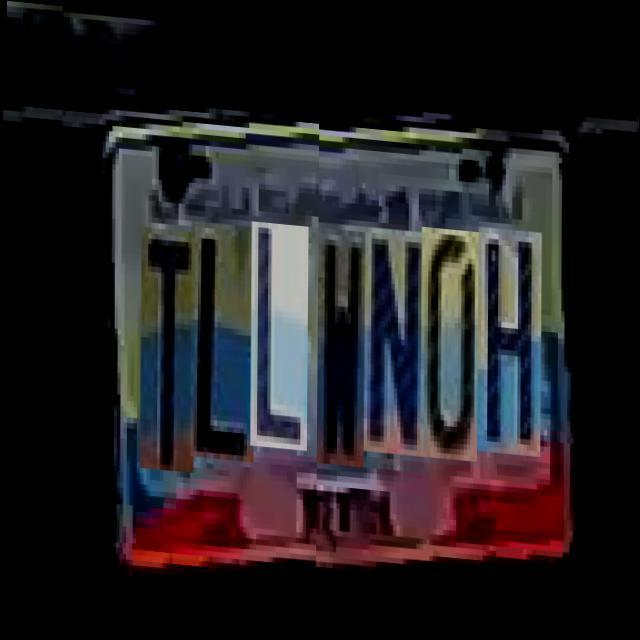0: (421, 213, 479, 447)
H: (478, 212, 542, 440)
L: (190, 217, 256, 457), (250, 216, 308, 445)
N: (364, 213, 430, 442)
T: (140, 224, 196, 469)
W: (318, 216, 366, 454)
